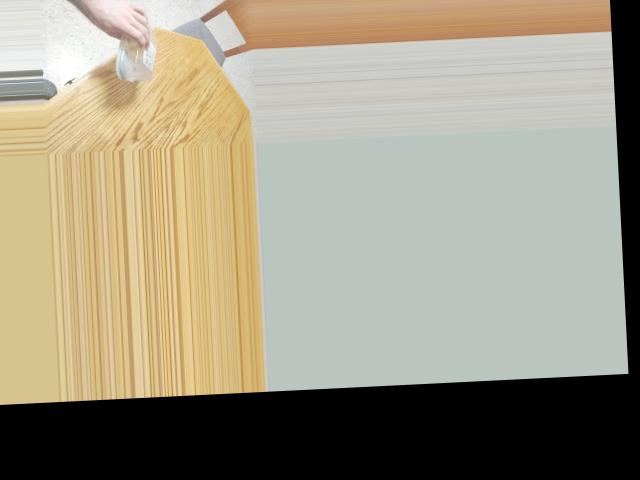cheese: (108, 15, 159, 71)
